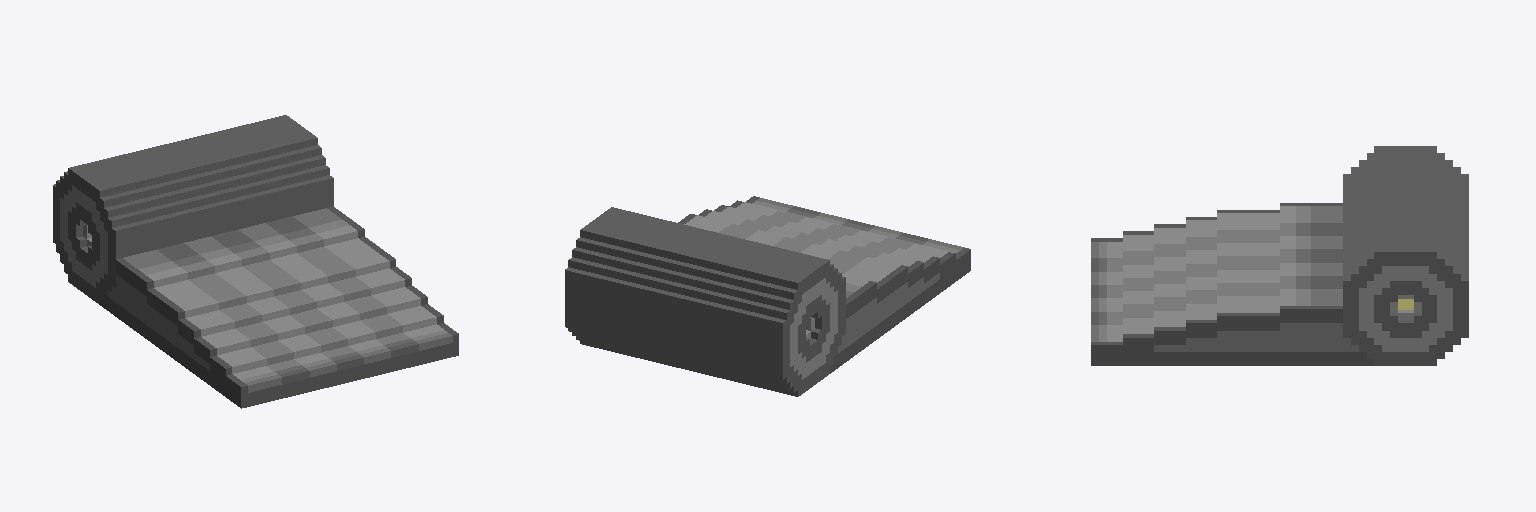
3 views of the same model, side by side, from view 1: azimuth 30°, elevation 25°; view 2: azimuth 150°, elevation 25°; view 3: azimuth 270°, elevation 25° (orthographic).
Size of the model in its own units: 32 by 16 by 48.
1 materials, 1 textured.